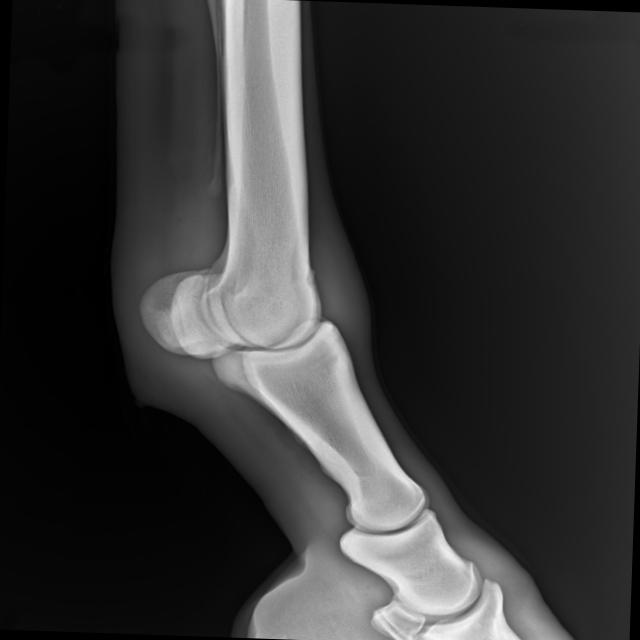joint-ht8A: (107, 202, 392, 435)
